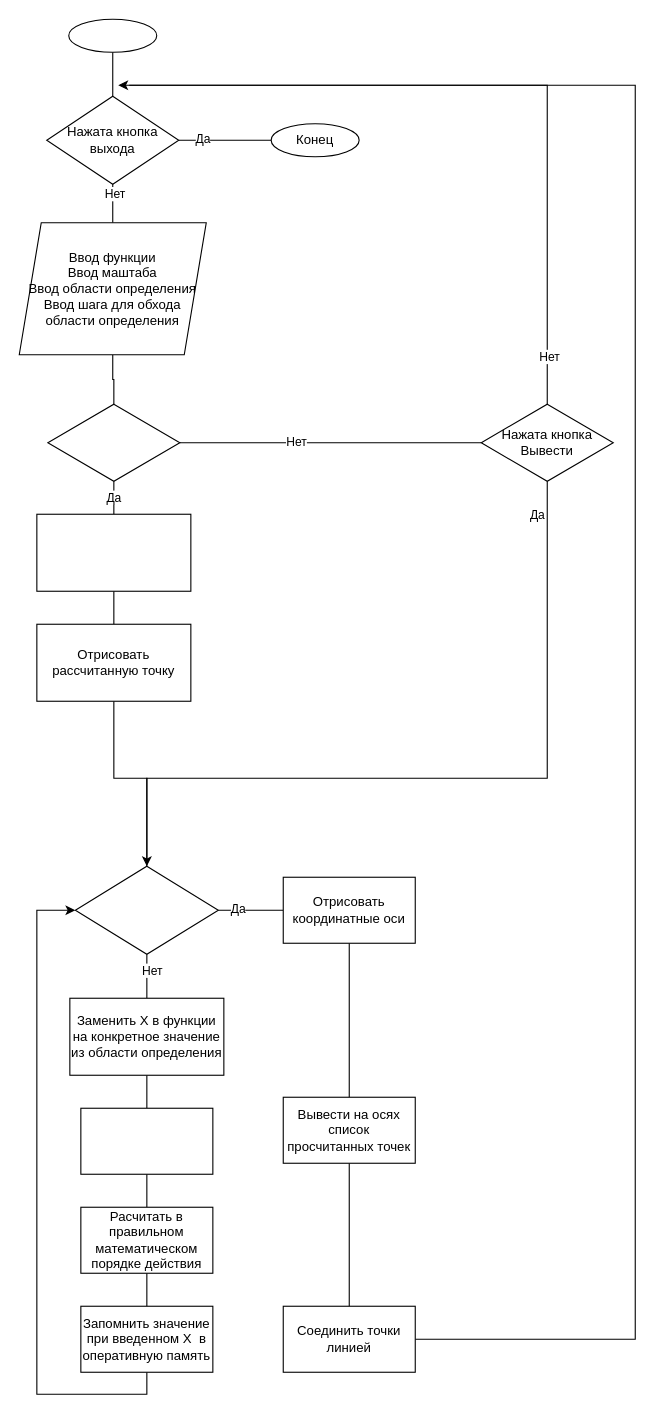
Image size: 656x1422. Some labels were removed from this diagram. Here are the shapes that lost their labels. From the top down, the centre of each, then its label:
At [112,35]: "Начало".
At [113,442]: "Нажата кнопка Вычислить".
At [113,552]: "Рассчитать значение Y для точки с определенным X".
At [146,909]: "Вся область определения просчитана".
At [146,1140]: "Разделить строку на отдельные операции и операнды".
